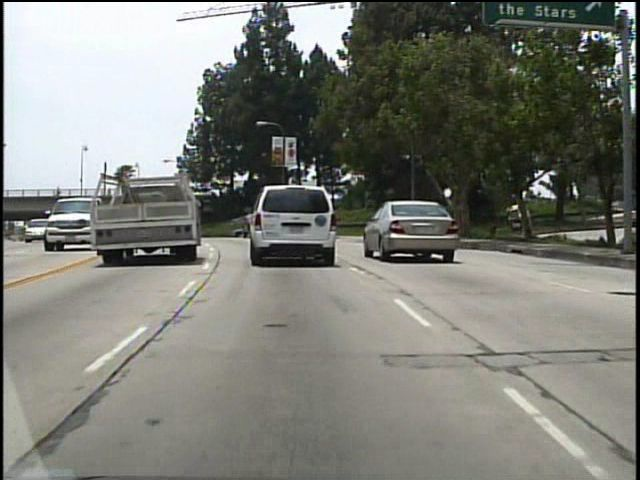person: (53, 183, 64, 203)
